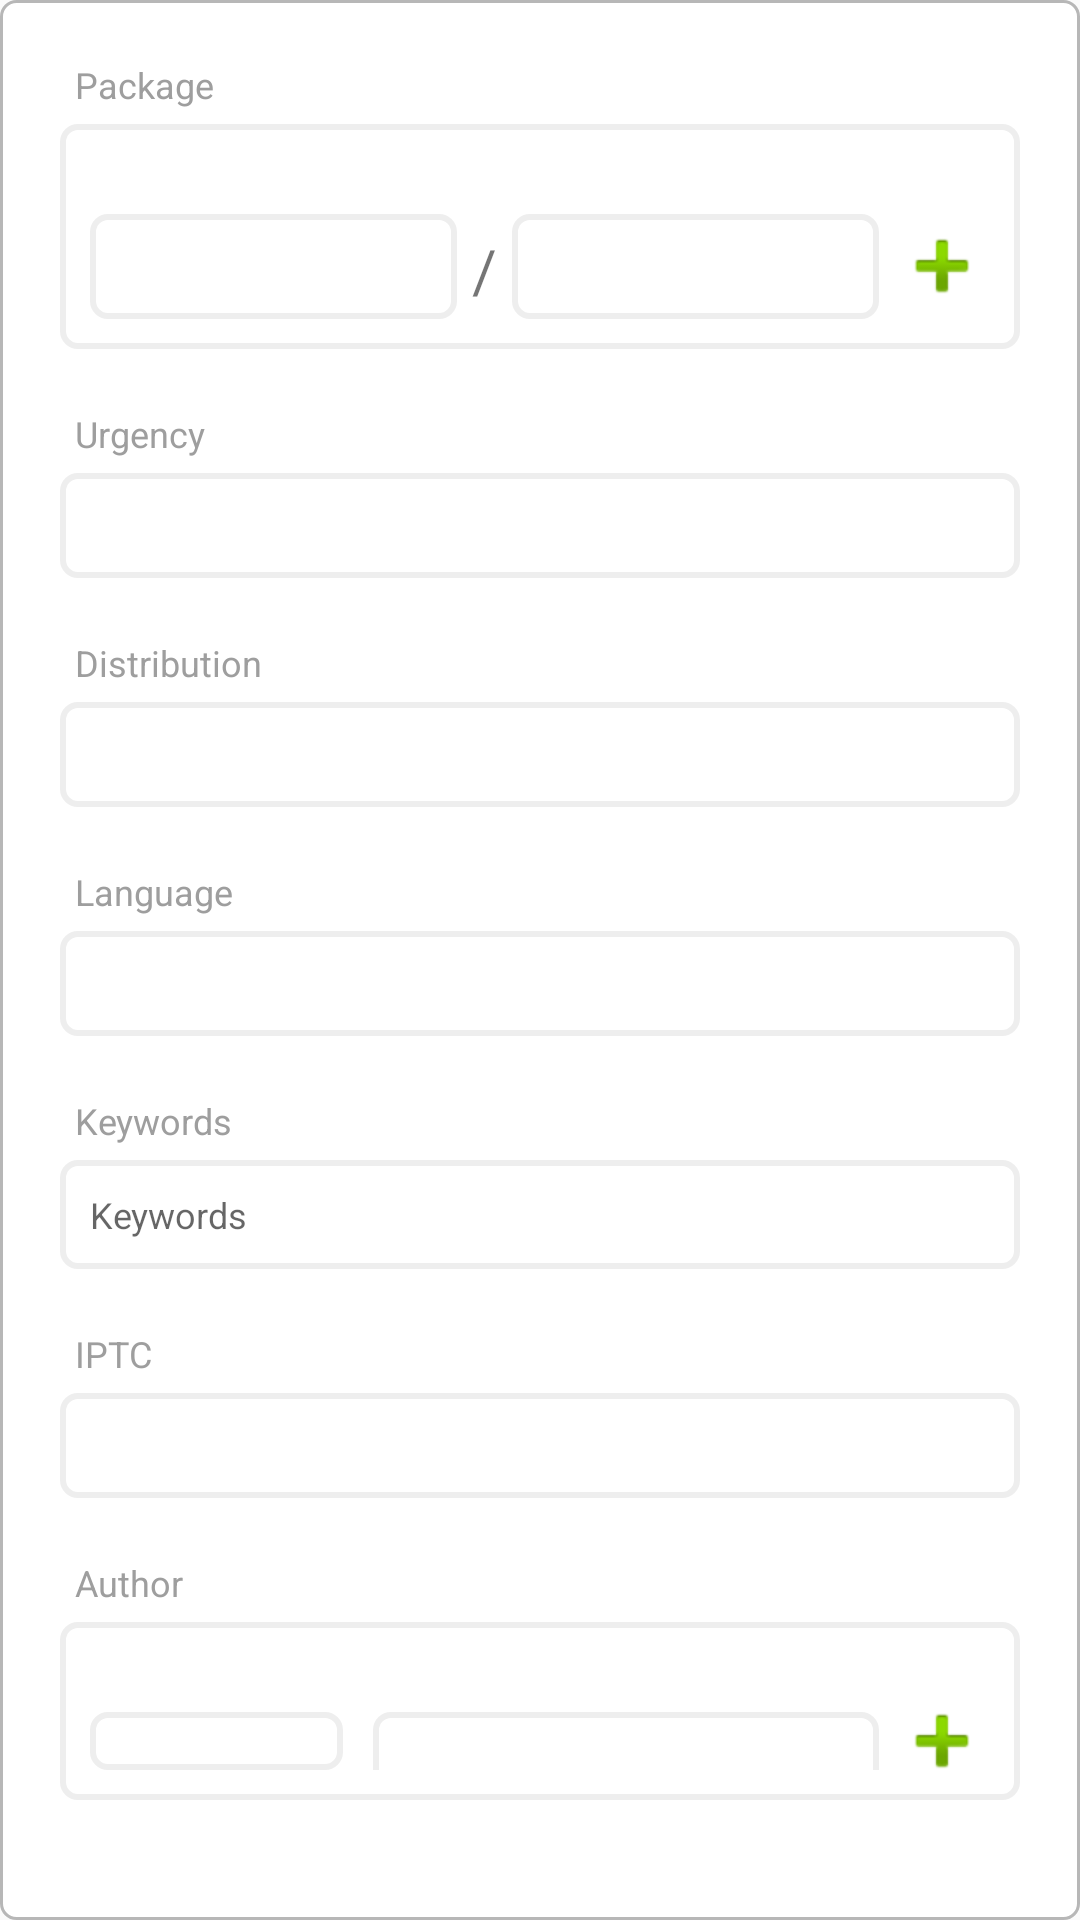

Named icons in this screenshot (1080px×1920px) and their bounding boxes, (x1, y1, x2, y2):
add: (915, 239, 969, 293), (915, 1714, 969, 1768)
